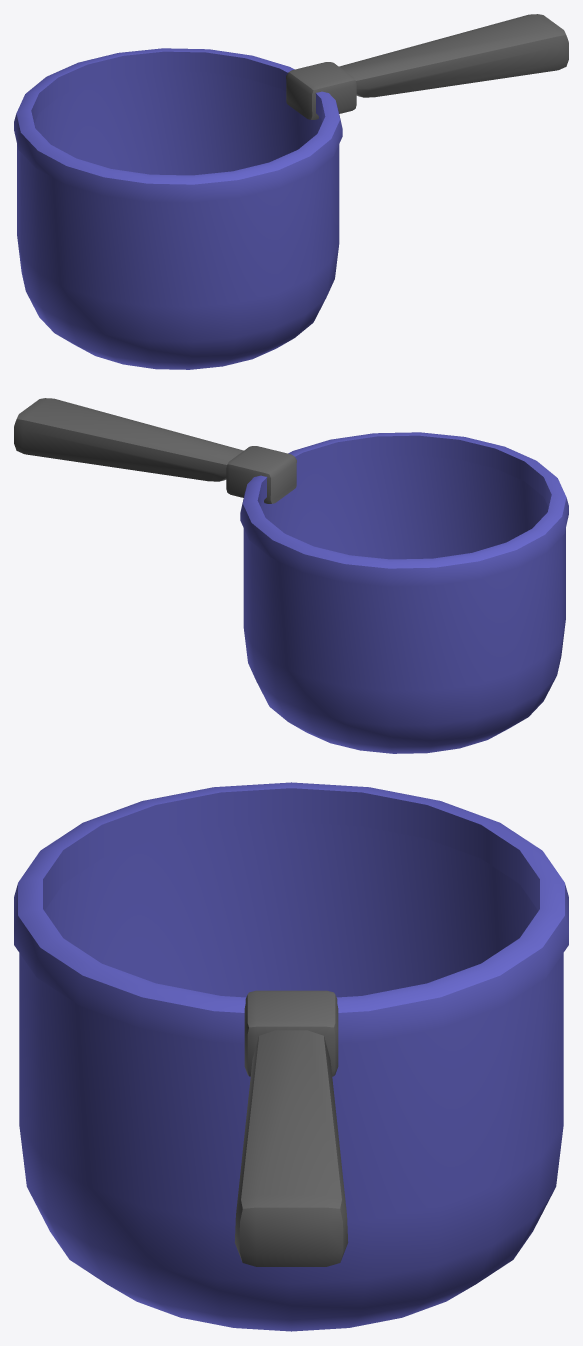
File: SM_pot_01.fbx
The picture shows the model from 3 angles, top to bottom: view 1: azimuth 30°, elevation 25°; view 2: azimuth 150°, elevation 25°; view 3: azimuth 270°, elevation 25°; orthographic projection. The views are drawn at different scales.
Parts seen in each view (by area): view 1: Box388; view 2: Box388; view 3: Box388.
Boxes of the visible parts, <box> form: Box388: <box>14,14,568,369</box>; Box388: <box>14,398,568,753</box>; Box388: <box>14,782,568,1331</box>.
Bounding box in the file's own units: 30.47 × 12.04 × 16.48.
